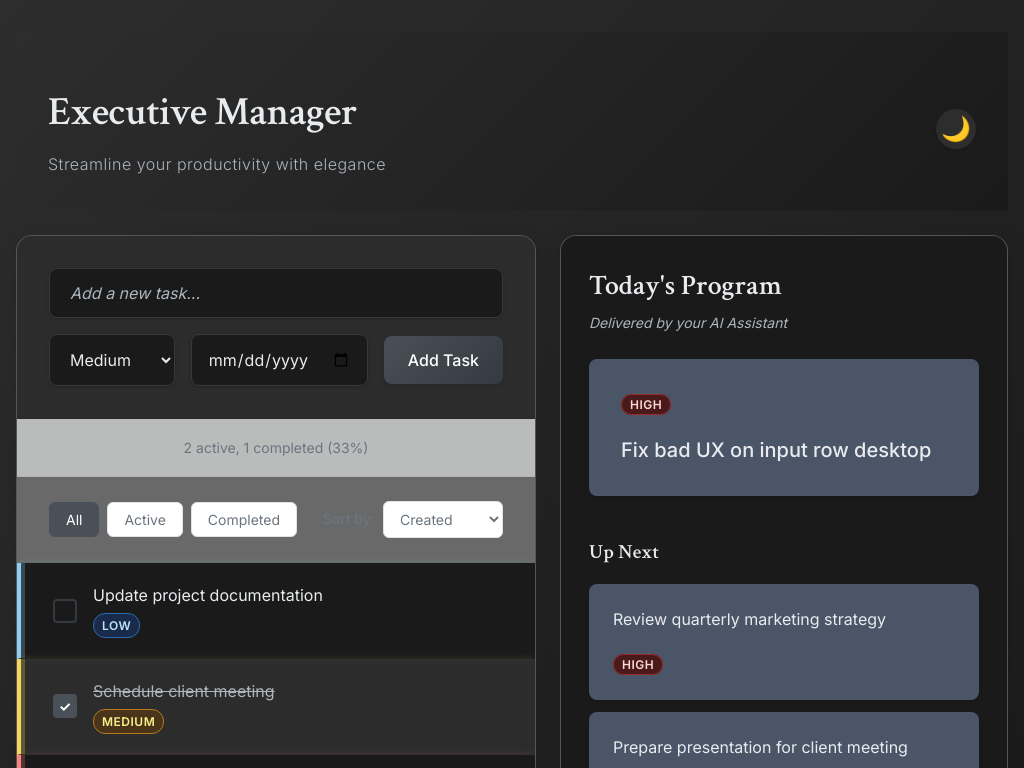
App Integration Tests › Save Indicator Integration › shows save indicator when theme is changed
Click the button "🌙". click: (956, 129)
box: [936,109,976,149]
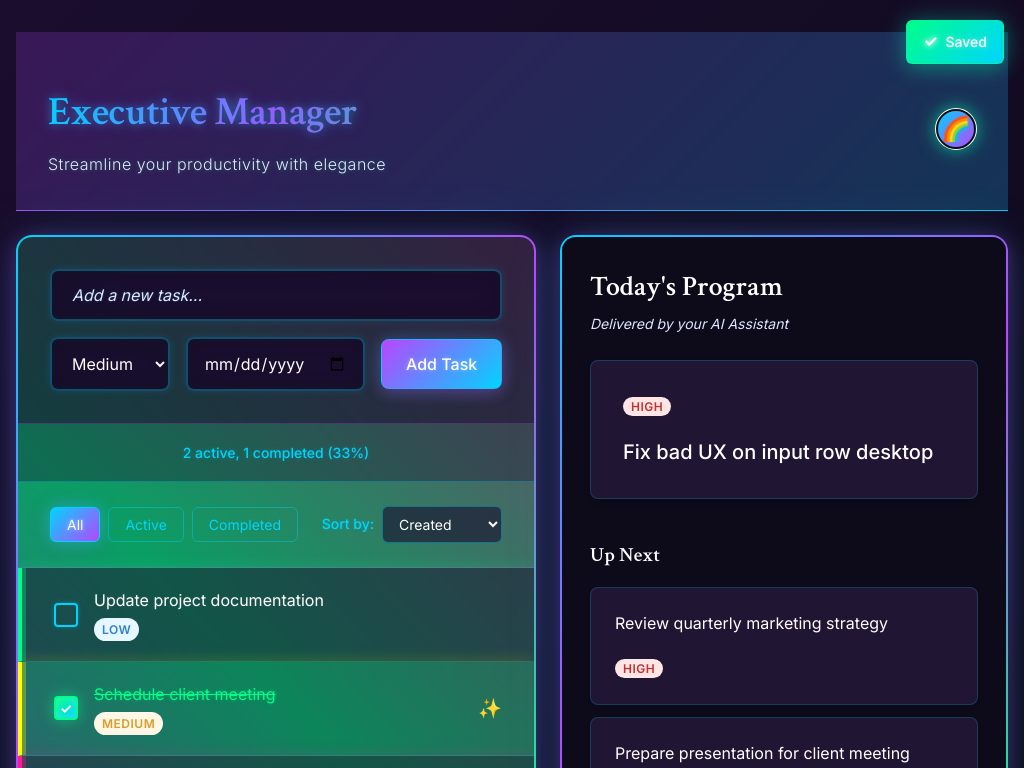
Expected: the text "Saved" is shown, [946,31,987,53]
